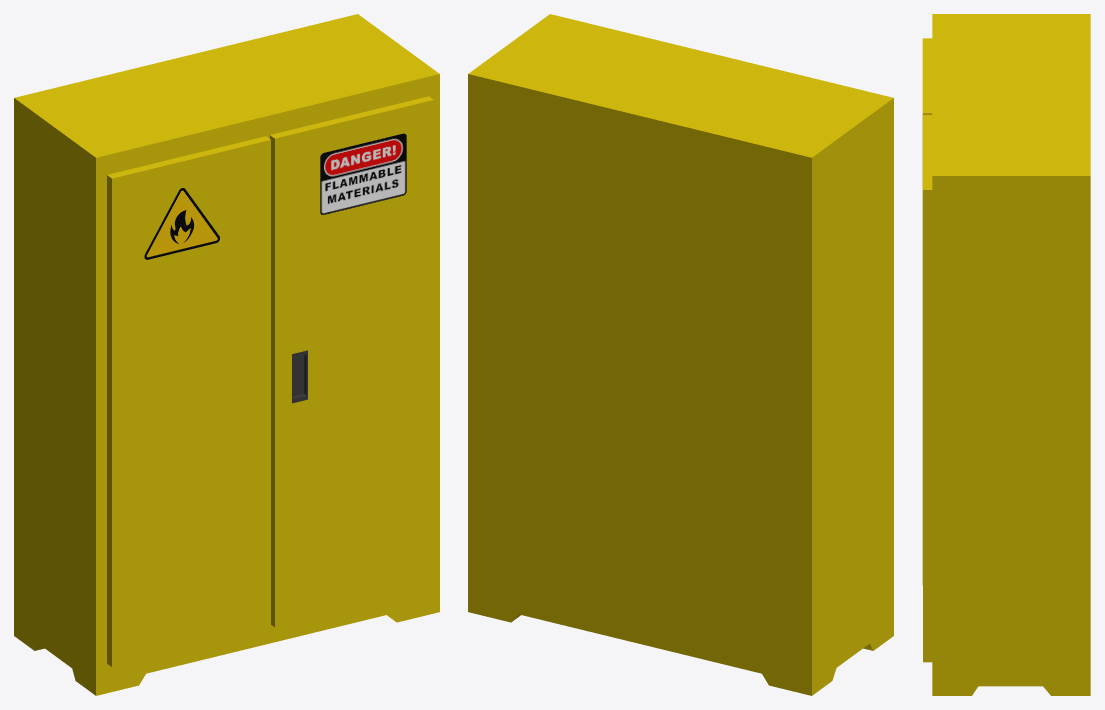
File: flammable_cabinet.fbx
3 views of the same model, side by side, from view 1: azimuth 30°, elevation 25°; view 2: azimuth 150°, elevation 25°; view 3: azimuth 270°, elevation 25° (orthographic). The views are drawn at different scales.
Visible parts, largest first — view 1: Cube; view 2: Cube; view 3: Cube.
Part boxes in pixels (x1,y1,x2,y2): Cube: [14, 14, 439, 695]; Cube: [468, 14, 893, 695]; Cube: [922, 14, 1090, 695].
Bounding box in the file's own units: 218 × 326 × 95.71.
4 materials, 2 textured.
